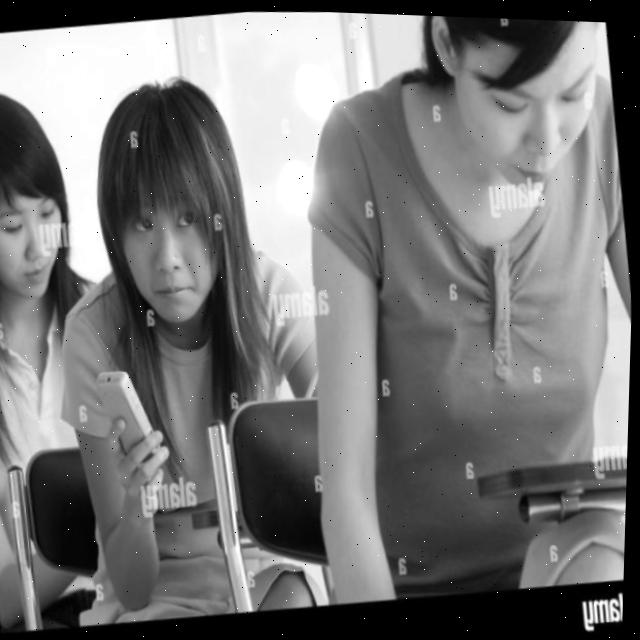phone: (94, 363, 167, 467)
